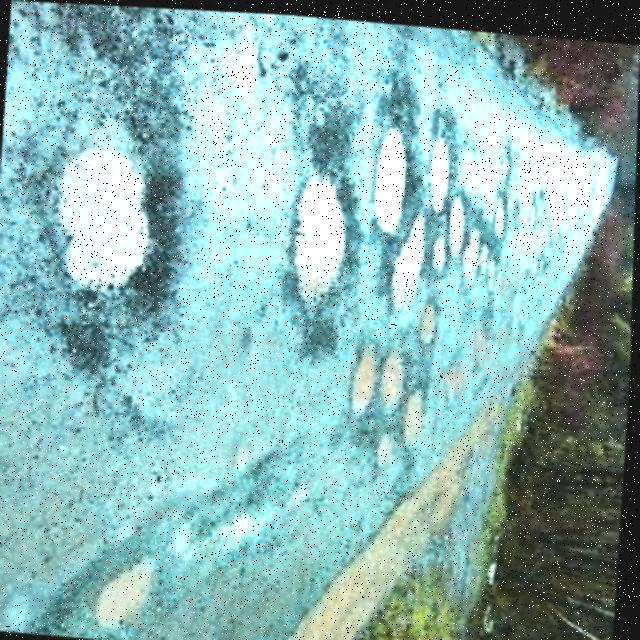pothole: (46, 138, 166, 294), (289, 165, 363, 306), (385, 202, 437, 314), (93, 548, 162, 632), (370, 118, 418, 235), (351, 332, 384, 412), (428, 128, 458, 212), (379, 340, 413, 414), (444, 184, 472, 254), (404, 378, 431, 442), (459, 218, 485, 284), (418, 292, 444, 343), (490, 186, 513, 236), (428, 225, 454, 268)
